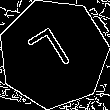L_SE: (27, 24, 80, 83)
